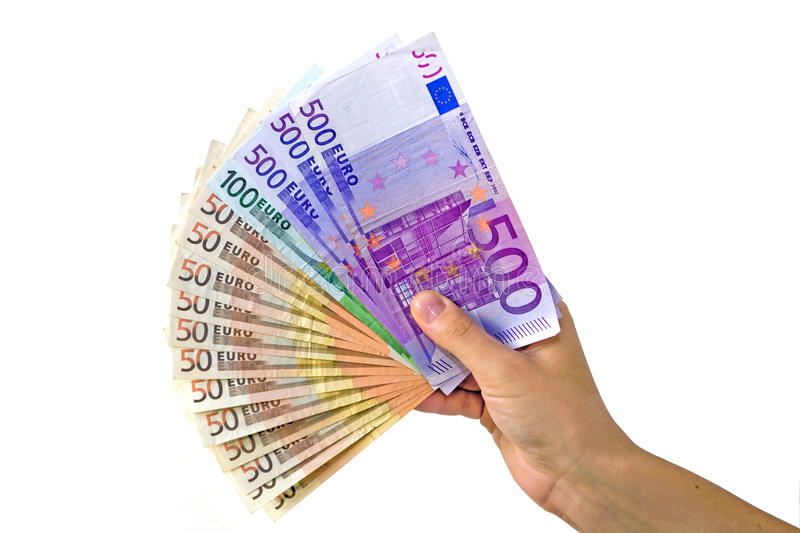billete: (159, 27, 565, 524)
